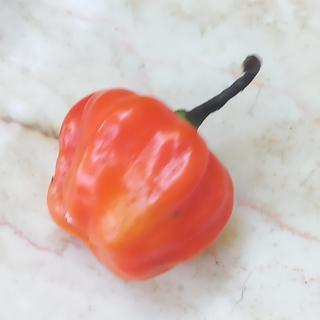Grade-B: (38, 82, 233, 285)
